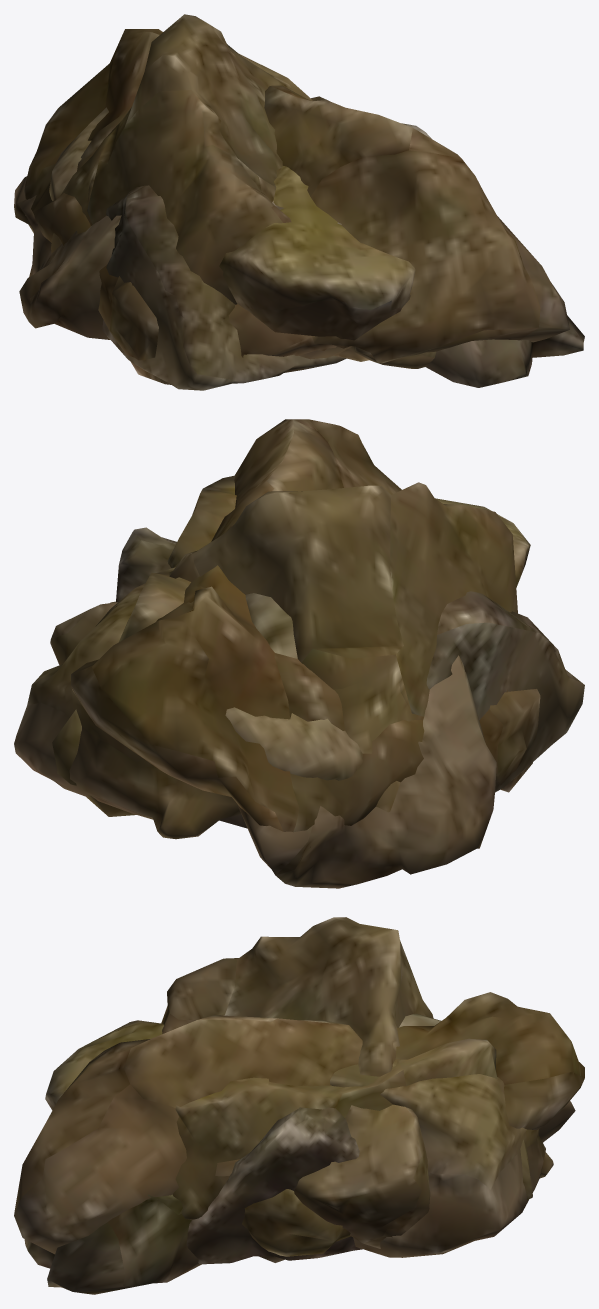
File: roca_musgo_set.glb
3 renders of one model, top to bottom at view 1: azimuth 30°, elevation 25°; view 2: azimuth 150°, elevation 25°; view 3: azimuth 270°, elevation 25°, orthographic. The views are drawn at different scales.
Visible parts, largest first — view 1: roca_musgo_set_v0, roca_musgo_set_v3, roca_musgo_set_v4, roca_musgo_set_v2, roca_musgo_set_v1, roca_musgo_set_v5; view 2: roca_musgo_set_v0, roca_musgo_set_v3, roca_musgo_set_v1, roca_musgo_set_v4, roca_musgo_set_v2, roca_musgo_set_v5; view 3: roca_musgo_set_v0, roca_musgo_set_v3, roca_musgo_set_v4, roca_musgo_set_v5, roca_musgo_set_v2, roca_musgo_set_v1.
Part boxes in pixels (x1,y1,x2,y2): roca_musgo_set_v0: [24, 29, 569, 384]; roca_musgo_set_v3: [51, 14, 328, 304]; roca_musgo_set_v4: [49, 107, 415, 359]; roca_musgo_set_v2: [102, 123, 431, 390]; roca_musgo_set_v1: [14, 176, 584, 387]; roca_musgo_set_v5: [239, 54, 436, 368]; roca_musgo_set_v0: [71, 419, 540, 847]; roca_musgo_set_v3: [50, 482, 517, 812]; roca_musgo_set_v1: [238, 593, 496, 888]; roca_musgo_set_v4: [14, 498, 530, 839]; roca_musgo_set_v2: [116, 527, 584, 828]; roca_musgo_set_v5: [52, 475, 236, 816]; roca_musgo_set_v0: [14, 992, 584, 1262]; roca_musgo_set_v3: [161, 917, 433, 1248]; roca_musgo_set_v4: [45, 1020, 553, 1257]; roca_musgo_set_v5: [172, 1038, 532, 1256]; roca_musgo_set_v2: [186, 1107, 362, 1264]; roca_musgo_set_v1: [24, 1013, 575, 1294].
Size of the model in its own units: 2.64 by 1.76 by 3.36.
Materials: 1 (1 with a texture image).
